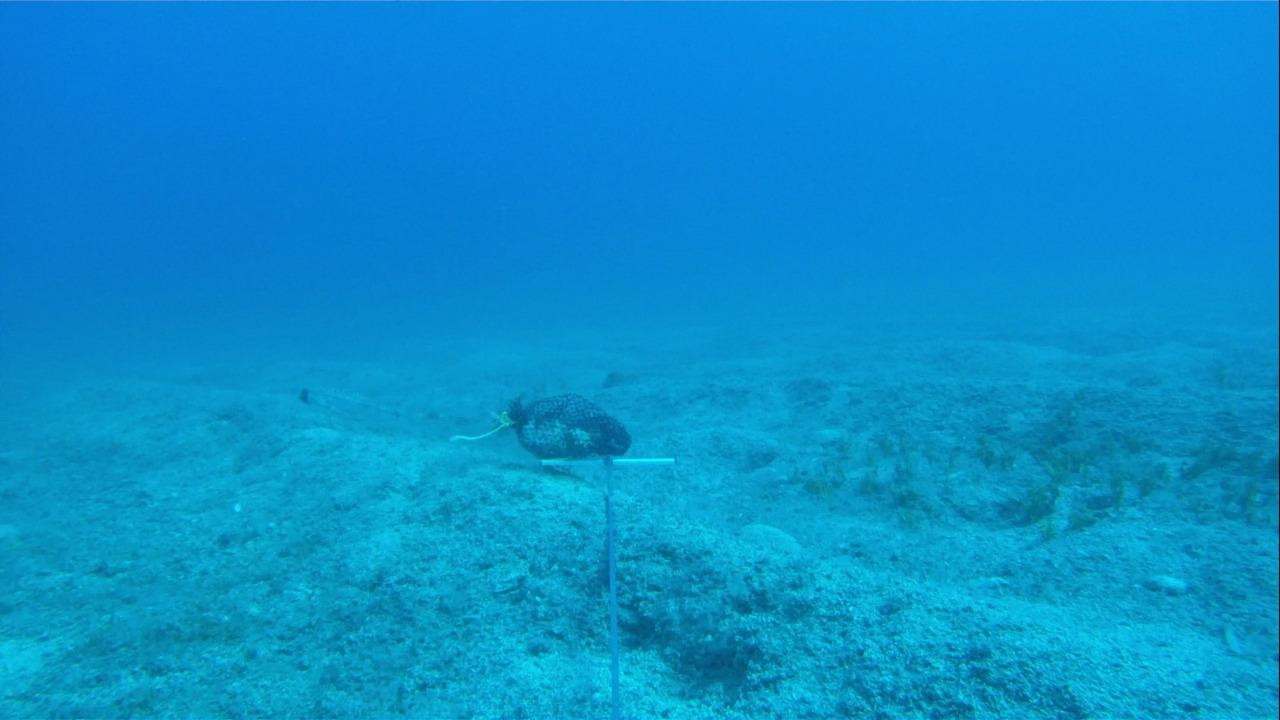dactylopterus: (289, 379, 419, 443)
